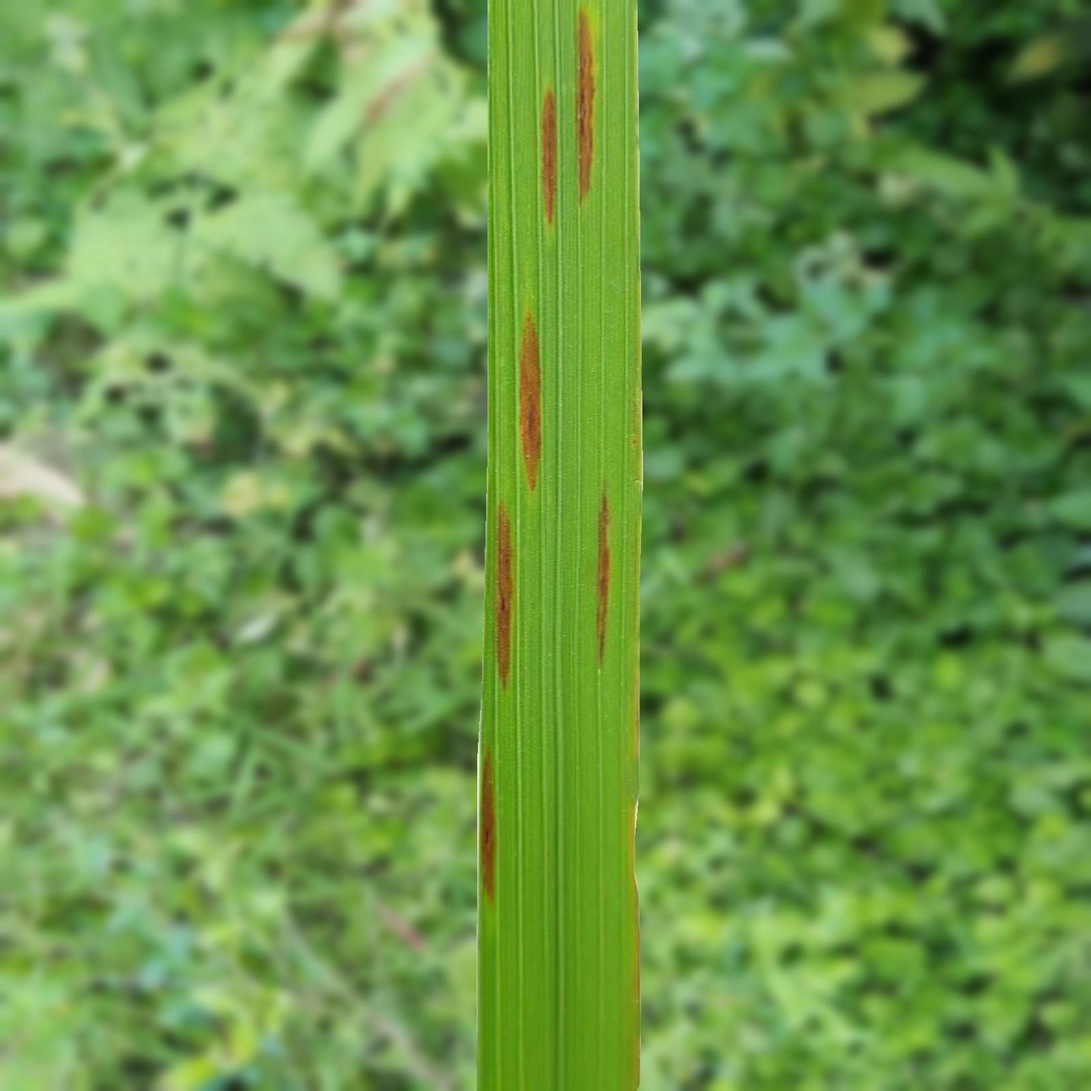LEAF: (477, 0, 642, 1090)
NBS: (518, 310, 541, 490), (576, 10, 595, 201), (496, 504, 513, 686), (597, 491, 610, 664), (481, 752, 495, 899), (541, 89, 556, 224)
